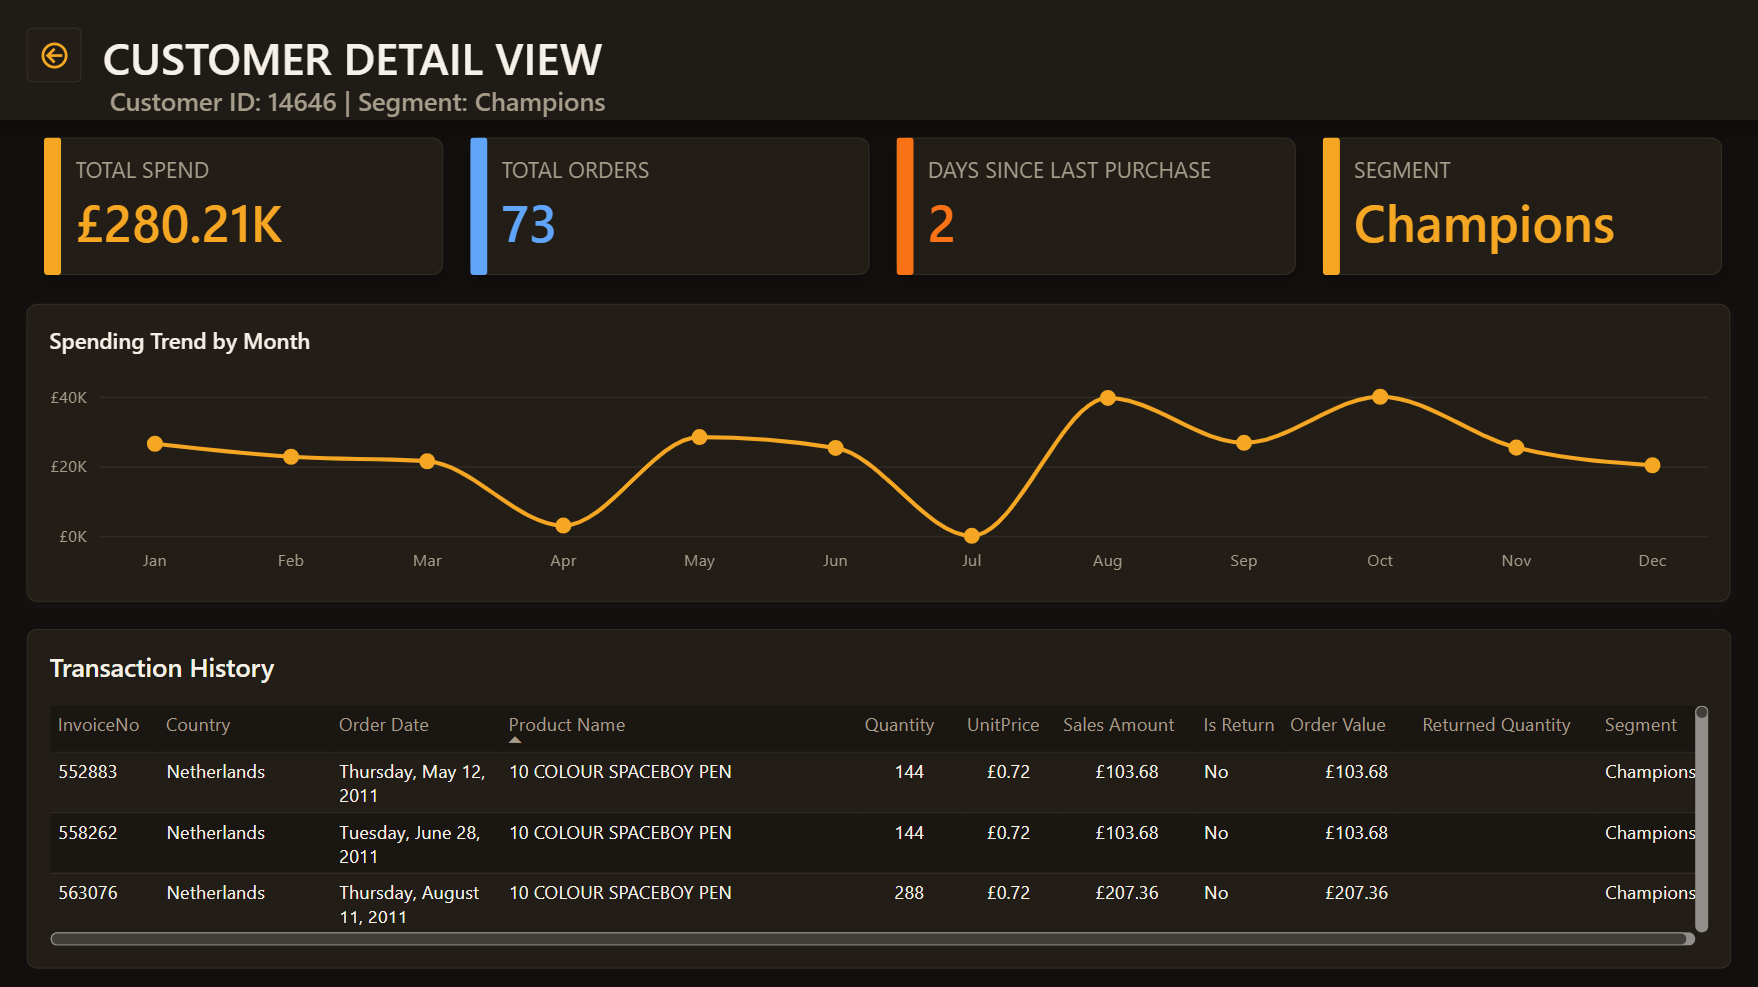

What the dashboard file says about the page in this screenshot:
{"tool":"powerbi","page":{"name":"Customer Details","canvas":[1280,720],"ordinal":1},"visuals":[{"type":"shape","box":[0,0,1280,87.5],"z":0},{"type":"actionButton","box":[20,20,40,40],"z":1000},{"type":"textbox","box":[75,20,500,45],"z":2000},{"type":"cardVisual","fields":{"Data":["_Measures.DrillThrough_Selected_Customer"]},"box":[75,58,500,30],"z":3000},{"type":"cardVisual","title":"KPI_Overview_TotalRevenue","fields":{"Data":["Sum(Dim_Customers.Monetary)"]},"box":[32.7,100,290,100],"z":4000},{"type":"shape","title":"Overview_Strip1","box":[32.7,100,12.5,100],"z":5000},{"type":"cardVisual","title":"KPI_Overview_TotalRevenue","fields":{"Data":["Sum(Dim_Customers.Frequency)"]},"box":[342.7,100,290,100],"z":6000},{"type":"cardVisual","title":"KPI_Overview_TotalRevenue","fields":{"Data":["Sum(Dim_Customers.Recency)"]},"box":[652.7,100,290,100],"z":7000},{"type":"cardVisual","title":"KPI_Overview_TotalRevenue","fields":{"Data":["Min(Dim_Customers.Segment)"]},"box":[962.7,100,290,100],"z":8000},{"type":"shape","title":"Overview_Strip1","box":[342.7,100,12.5,100],"z":9000},{"type":"shape","title":"Overview_Strip1","box":[652.7,100,12.5,100],"z":10000},{"type":"shape","title":"Overview_Strip1","box":[962.7,100,12.5,100],"z":11000},{"type":"tableEx","title":"Transaction History","fields":{"Values":["Fact_Sales.InvoiceNo","Dim_Customers.CustomersCountry","Fact_Sales.OrderDate","Dim_Products.Description","Fact_Sales.Quantity","Fact_Sales.UnitPrice","Fact_Sales.Sales_Amount","Fact_Sales.IsReturn","_Measures.Avg_Order_Value","_Measures.Returned_Quantity","Dim_Customers.Segment"]},"box":[20.2,457.4,1240,247.3],"z":12000},{"type":"lineChart","title":"Spending Trend by Month","fields":{"Category":["Dim_Date.MonthName"],"Y":["Sum(Fact_Sales.Sales_Amount)"]},"box":[20.2,220.7,1239.3,216.4],"z":13000}]}

Visuals, with their boxes in screenshot pixels (x1, y1, x2, y2), scaled from the page's 1280x720 canvas onto the 1758x987 screenshot:
shape: region(0, 0, 1757, 120)
actionButton: region(27, 27, 82, 82)
textbox: region(103, 27, 790, 89)
cardVisual - _Measures.DrillThrough_Selected_Customer: region(103, 80, 790, 121)
"KPI_Overview_TotalRevenue" cardVisual: region(45, 137, 443, 274)
"Overview_Strip1" shape: region(45, 137, 62, 274)
"KPI_Overview_TotalRevenue" cardVisual: region(471, 137, 869, 274)
"KPI_Overview_TotalRevenue" cardVisual: region(896, 137, 1295, 274)
"KPI_Overview_TotalRevenue" cardVisual: region(1322, 137, 1721, 274)
"Overview_Strip1" shape: region(471, 137, 488, 274)
"Overview_Strip1" shape: region(896, 137, 914, 274)
"Overview_Strip1" shape: region(1322, 137, 1339, 274)
"Transaction History" tableEx: region(28, 627, 1731, 966)
"Spending Trend by Month" lineChart: region(28, 303, 1730, 599)
